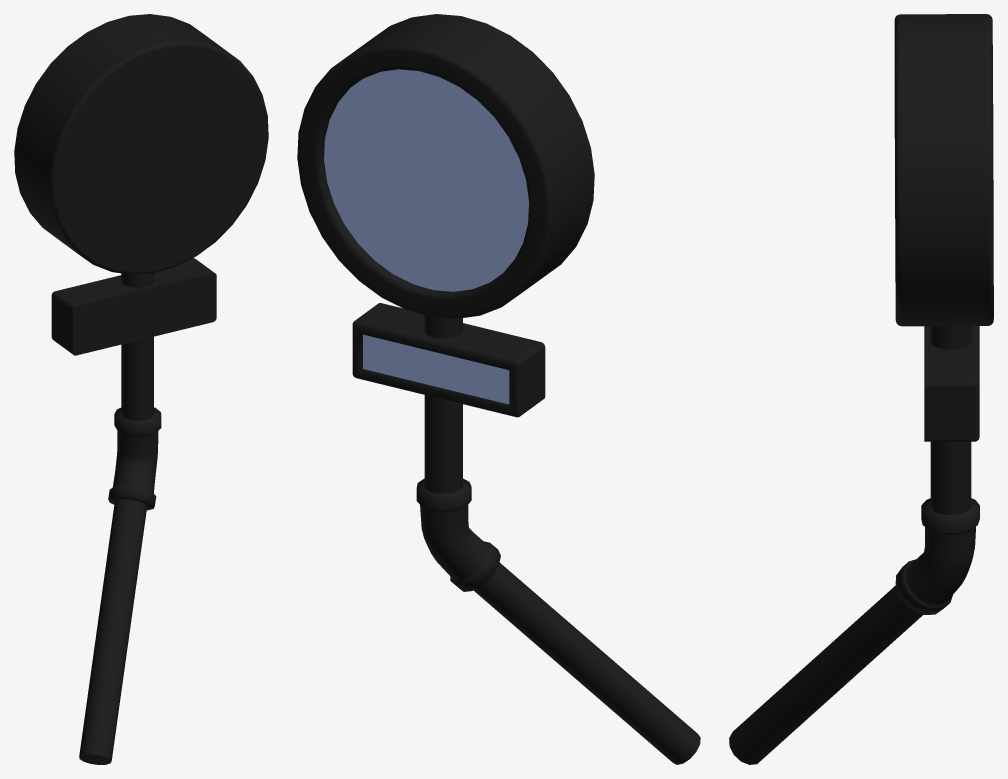
File: RadarNew.fbx
3 views of the same model, side by side, from view 1: azimuth 30°, elevation 25°; view 2: azimuth 150°, elevation 25°; view 3: azimuth 270°, elevation 25° (orthographic). The views are drawn at different scales.
Parts seen in each view (by area): view 1: Radar; view 2: Radar; view 3: Radar.
Part boxes in pixels (x1,y1,x2,y2): Radar: (14,14,268,764); Radar: (297,14,700,764); Radar: (729,14,993,764).
Size of the model in its own units: 0.1728 by 0.4342 by 0.1289.
